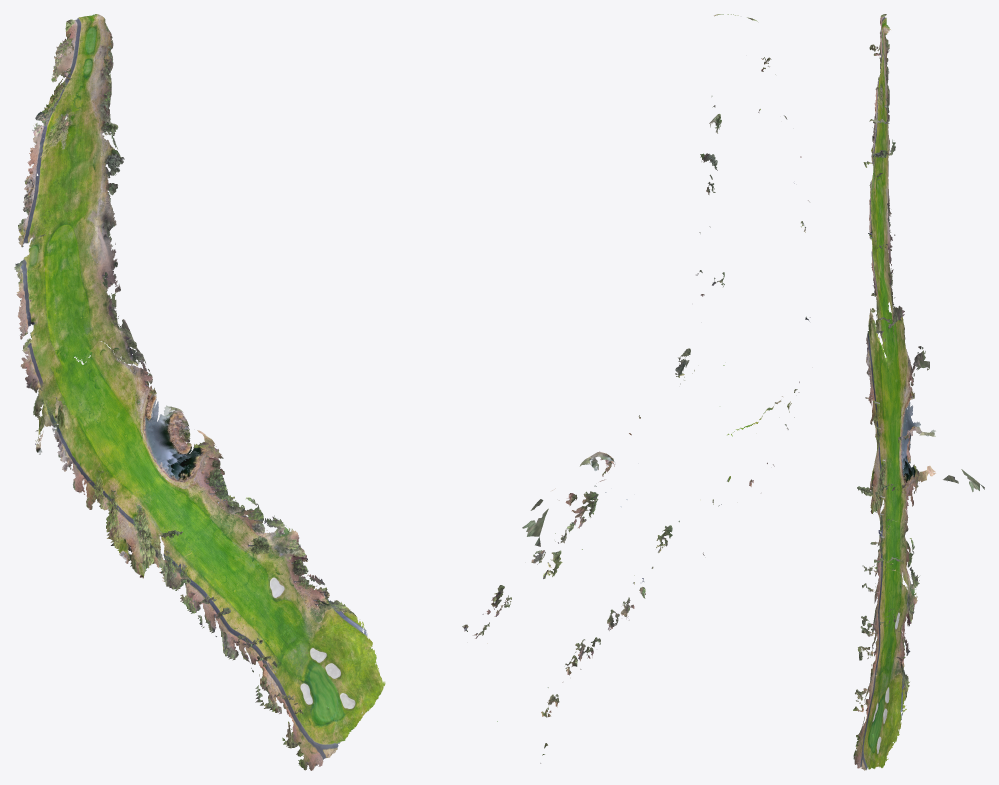
3 renders of one model, left to right at view 1: azimuth 30°, elevation 25°; view 2: azimuth 150°, elevation 25°; view 3: azimuth 270°, elevation 25°, orthographic. The views are drawn at different scales.
Bounding box in the file's own units: 249 × 496 × 89.89.
Materials: 21 (21 with a texture image).
